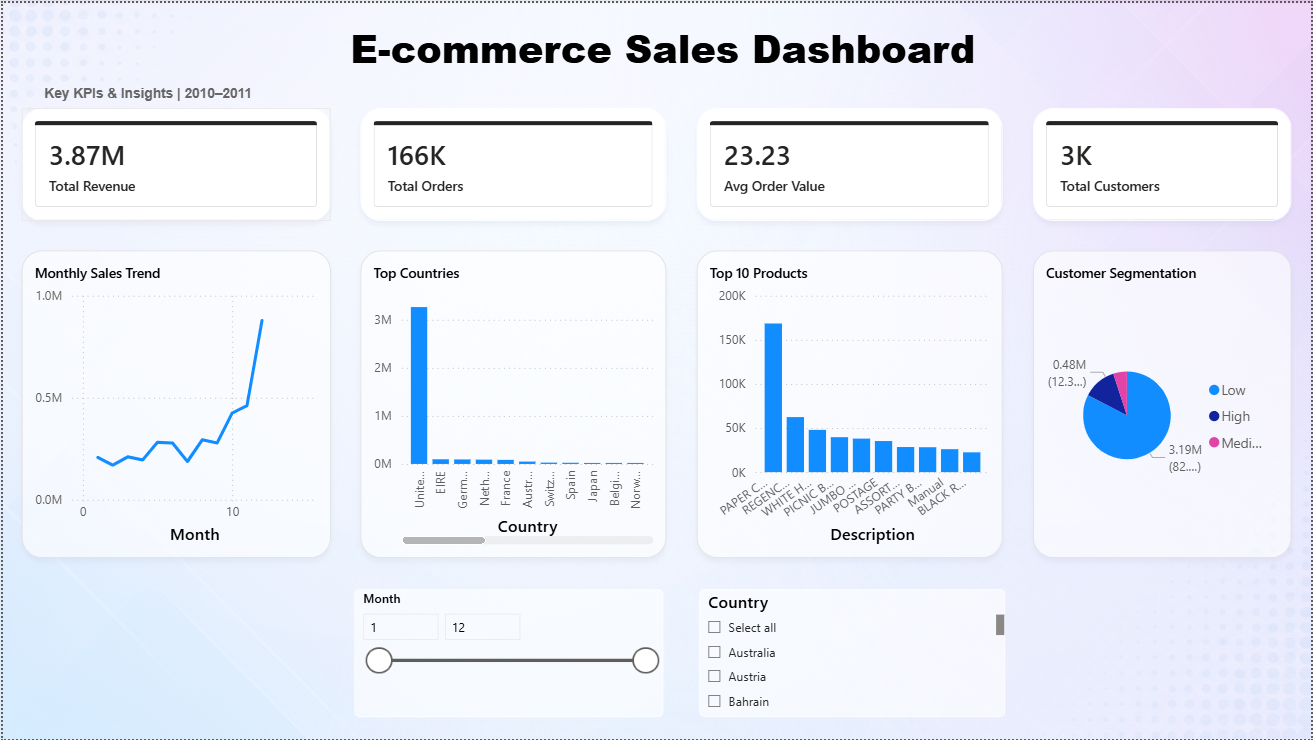

The dashboard page shown, as its layout file describes it:
{"tool":"powerbi","page":{"name":"Page 1","canvas":[1280,720],"ordinal":0},"visuals":[{"type":"cardVisual","fields":{"Data":["cleaned_ecommerce_data.Total Orders"]},"box":[349.7,102.7,299.6,110.1],"z":0},{"type":"cardVisual","fields":{"Data":["cleaned_ecommerce_data.Total Revenue"]},"box":[18.3,102.7,302,110.1],"z":1000},{"type":"cardVisual","fields":{"Data":["cleaned_ecommerce_data.Avg Order Value"]},"box":[678.7,102.7,299.6,110.1],"z":2000},{"type":"cardVisual","fields":{"Data":["cleaned_ecommerce_data.Total Customers"]},"box":[1007.6,102.7,253.1,110.1],"z":3000},{"type":"lineChart","title":"Monthly Sales Trend","fields":{"Category":["cleaned_ecommerce_data.Month"],"Y":["cleaned_ecommerce_data.Total Revenue"]},"box":[18.3,242.1,302,300.8],"z":4000},{"type":"columnChart","title":"Top Countries","fields":{"Category":["cleaned_ecommerce_data.Country"],"Y":["cleaned_ecommerce_data.Total Revenue"]},"box":[349.7,242.1,299.6,300.8],"z":5000},{"type":"columnChart","title":"Top 10 Products","fields":{"Category":["cleaned_ecommerce_data.Description"],"Y":["cleaned_ecommerce_data.Total Revenue"]},"box":[678.7,242.1,299.6,300.8],"z":6000},{"type":"pieChart","title":"Customer Segmentation","fields":{"Category":["cleaned_ecommerce_data.Customer Type"],"Y":["cleaned_ecommerce_data.Total Revenue"]},"box":[1007.6,242.1,253.1,300.8],"z":7000},{"type":"slicer","fields":{"Values":["cleaned_ecommerce_data.Month"]},"box":[343.6,573.5,302,124.7],"z":8000},{"type":"slicer","fields":{"Values":["cleaned_ecommerce_data.Country"]},"box":[681.1,573.5,299.6,124.7],"z":9000},{"type":"textbox","box":[15.9,13.5,1259.5,62.4],"z":10000},{"type":"textbox","box":[35.5,73.4,221.3,29.3],"z":11000}]}

Visuals, with their boxes in screenshot pixels (x1, y1, x2, y2), scaled from the page's 1280x720 canvas onto the 1313x740 screenshot:
cardVisual - cleaned_ecommerce_data.Total Orders: (359, 106, 666, 219)
cardVisual - cleaned_ecommerce_data.Total Revenue: (19, 106, 329, 219)
cardVisual - cleaned_ecommerce_data.Avg Order Value: (696, 106, 1004, 219)
cardVisual - cleaned_ecommerce_data.Total Customers: (1034, 106, 1293, 219)
"Monthly Sales Trend" lineChart: (19, 249, 329, 558)
"Top Countries" columnChart: (359, 249, 666, 558)
"Top 10 Products" columnChart: (696, 249, 1004, 558)
"Customer Segmentation" pieChart: (1034, 249, 1293, 558)
slicer - cleaned_ecommerce_data.Month: (352, 589, 662, 718)
slicer - cleaned_ecommerce_data.Country: (699, 589, 1006, 718)
textbox: (16, 14, 1308, 78)
textbox: (36, 75, 263, 106)
